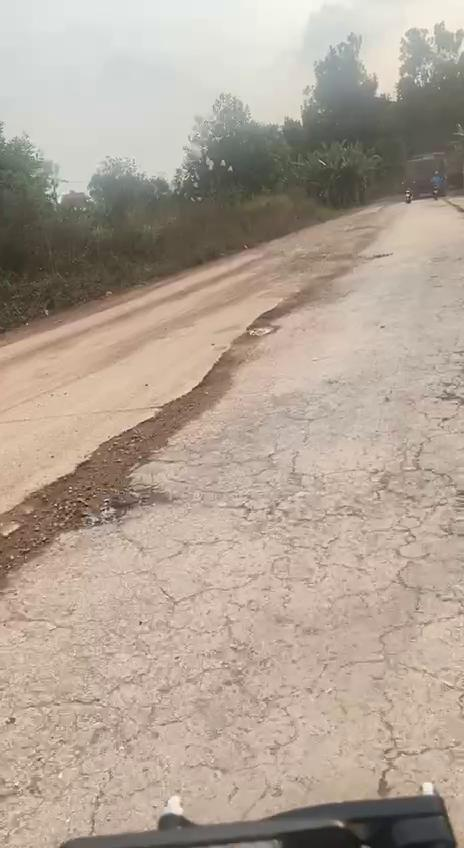pothole: (0, 410, 193, 574)
